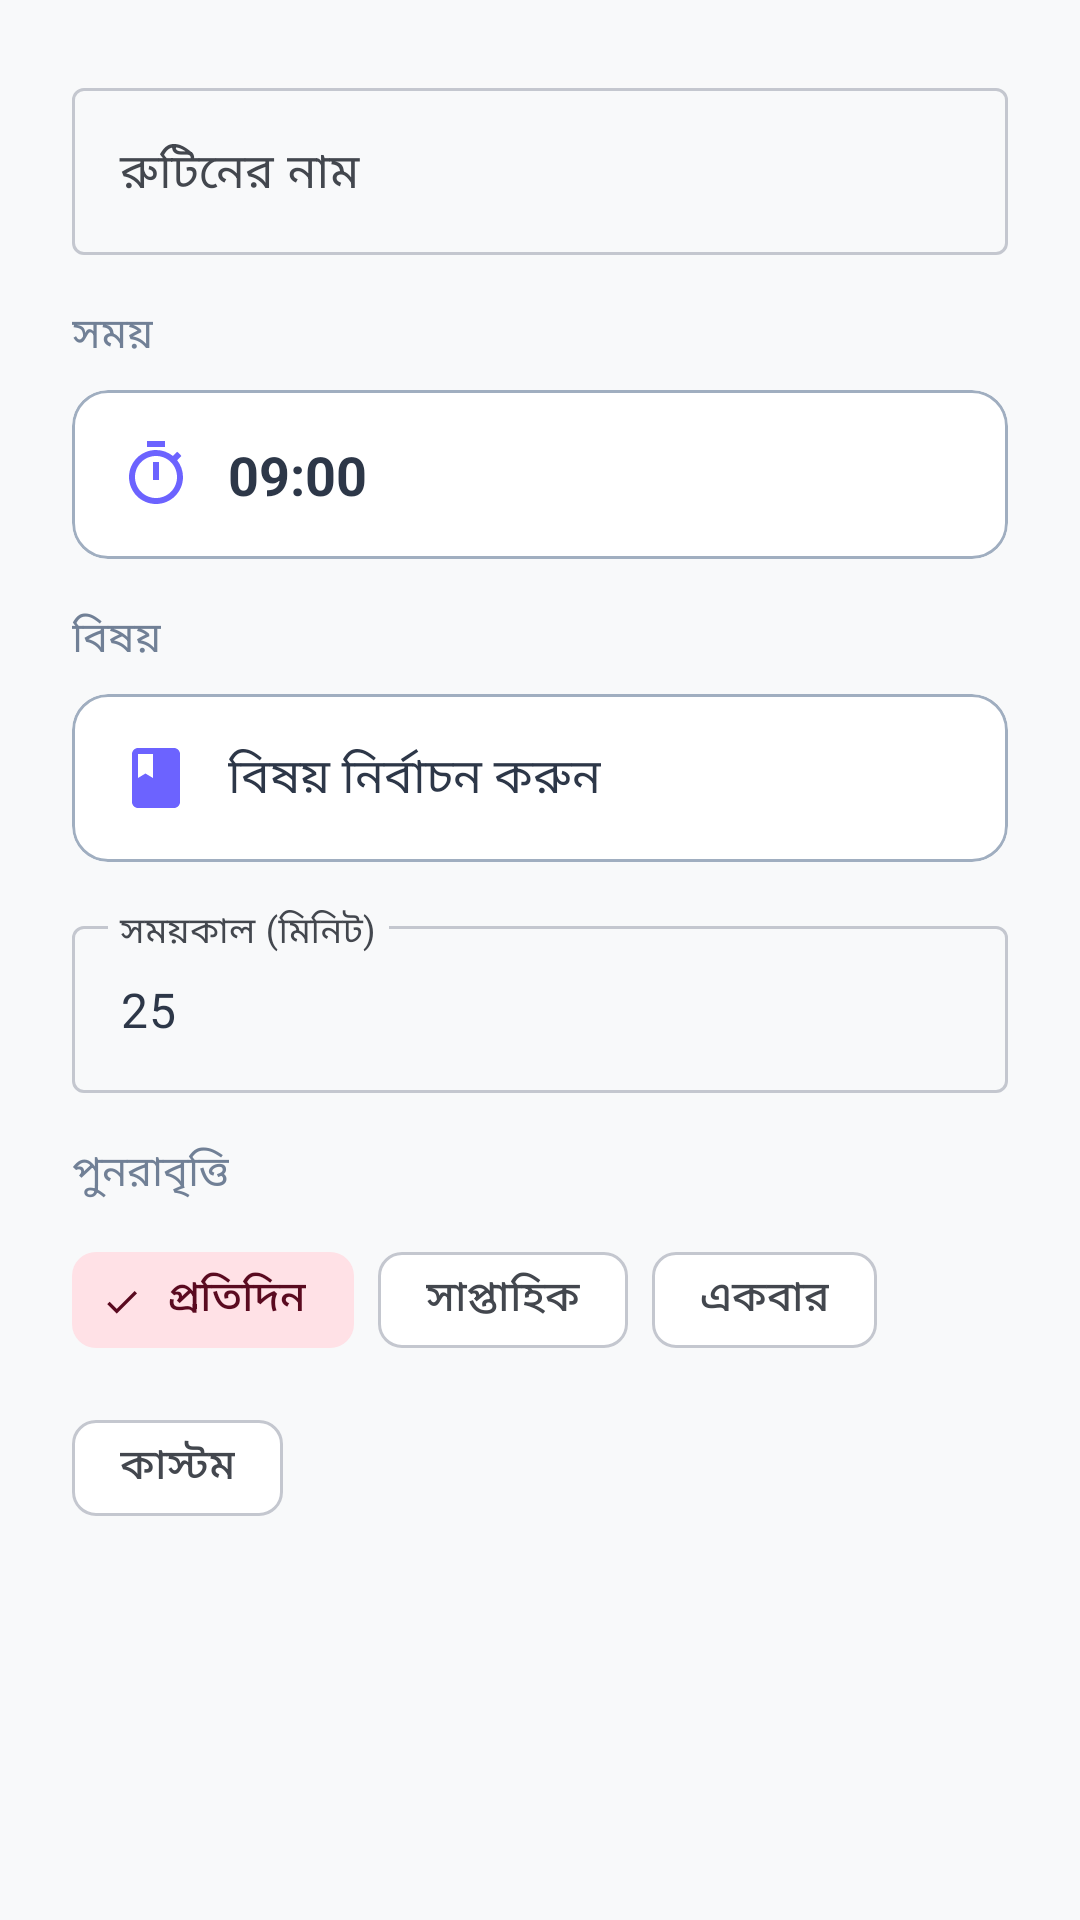

Named icons in this screenshot (1080w x 1920h) and their centers, (x,y):
subject: (156,778)
timer: (156,472)
